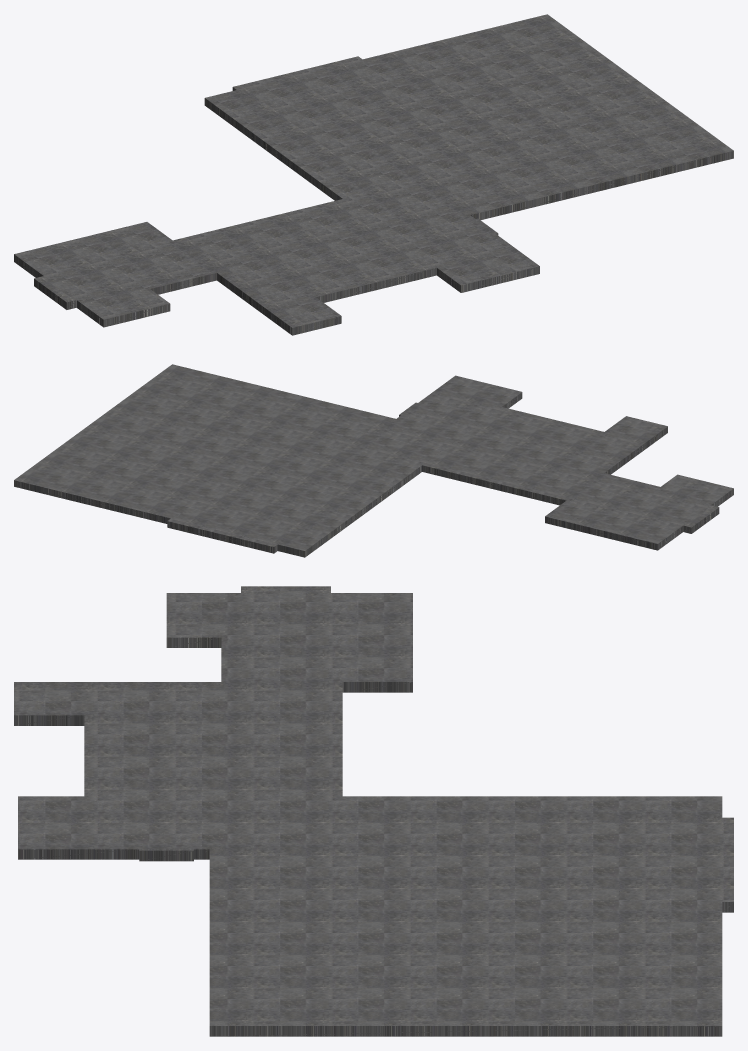
File: 1860_kitchen_Floor_Pampa.gltf
The picture shows the model from 3 angles, top to bottom: view 1: azimuth 30°, elevation 25°; view 2: azimuth 150°, elevation 25°; view 3: azimuth 270°, elevation 25°; orthographic projection. The views are drawn at different scales.
Parts seen in each view (by area): view 1: Line23781; view 2: Line23781; view 3: Line23781.
Part boxes in pixels (left/top/right/bottom): Line23781: left=14, top=14, right=733, bottom=335; Line23781: left=14, top=364, right=733, bottom=557; Line23781: left=14, top=586, right=733, bottom=1036.
Size of the model in its own units: 26.6 by 0.3 by 18.4.
